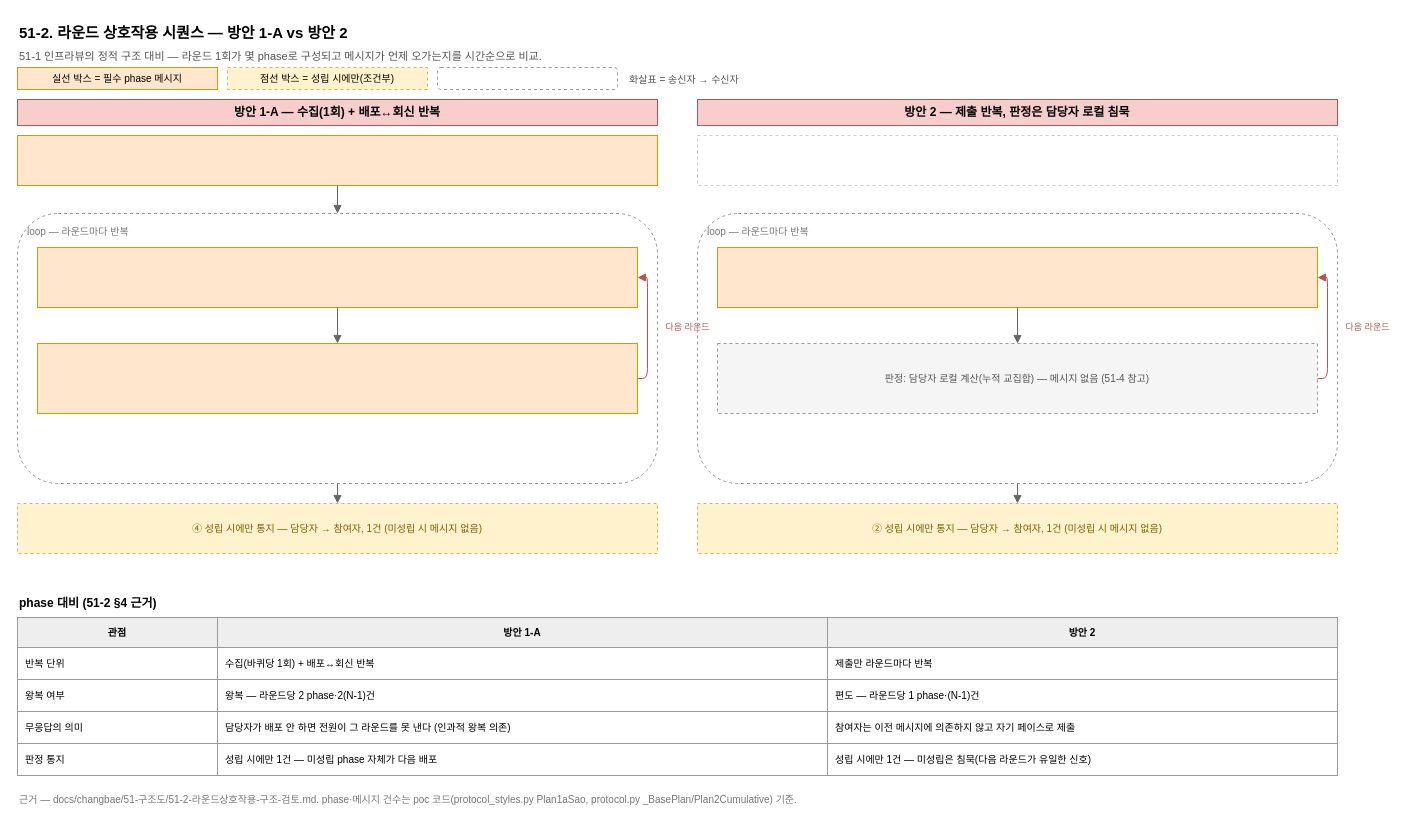
The diagram is 1407 pixels wide and 834 high, and some of its shapes have lost their labels. Each missing label, with the centre of its shape:
(수집 phase 없음 — 매 라운드가 곧 제출이다): (1017,160)
① 수집 — 참여자 → 담당자, N-1건 (바퀴 시작 1회만): (337,160)
① 제출 — 참여자 → 담당자, N-1건: (1017,277)
② 배포(offer) — 담당자 → 참여자, N-1건, 익명 목록: (337,277)
③ 회신 — 참여자 → 담당자, N-1건 O/X 묶음 + 다음 순위 후보 결합 (51-3 참고): (337,378)
회색 점선 = 반복 루프 범위: (527,78)
